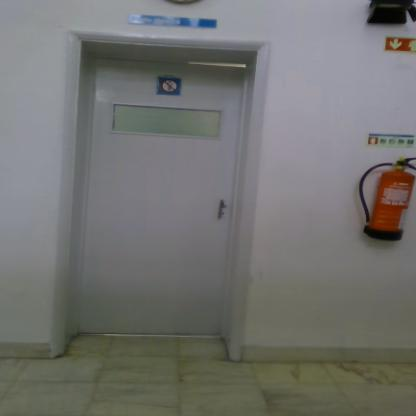door: (80, 48, 246, 347)
